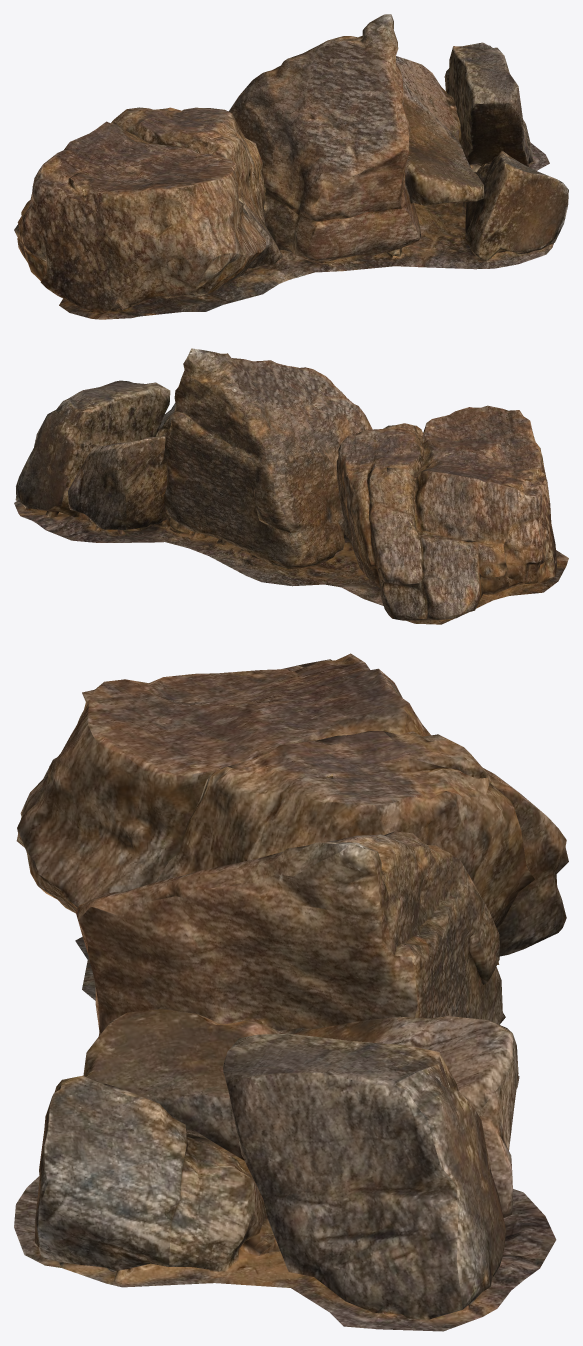
The model's file is bould1.glb.
3 renders of one model, top to bottom at view 1: azimuth 30°, elevation 25°; view 2: azimuth 150°, elevation 25°; view 3: azimuth 270°, elevation 25°, orthographic. The views are drawn at different scales.
Visible parts, largest first — view 1: bould1; view 2: bould1; view 3: bould1.
Part boxes in pixels (bbox=[...]): bould1: bbox=[14, 14, 568, 319]; bould1: bbox=[14, 348, 568, 624]; bould1: bbox=[14, 653, 568, 1331].
Bounding box in the file's own units: 2.51 × 0.8818 × 1.23.
Materials: 1 (1 with a texture image).
